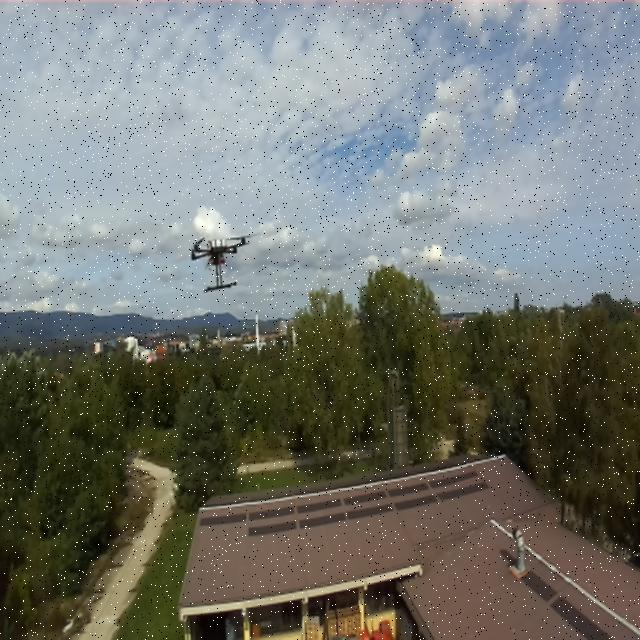UAV: (182, 223, 260, 291)
